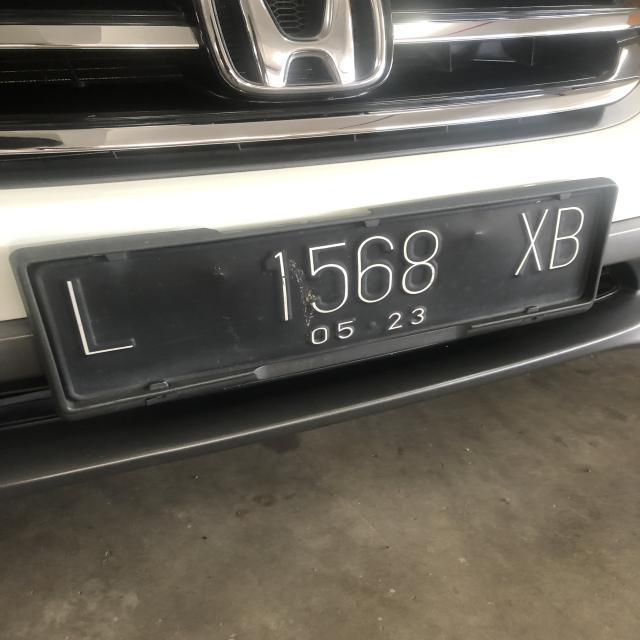1: (268, 248, 300, 327)
5: (304, 237, 352, 312)
6: (354, 234, 397, 302)
8: (400, 226, 444, 292)
B: (551, 205, 592, 272)
L: (65, 277, 142, 363)
X: (515, 207, 551, 276)
